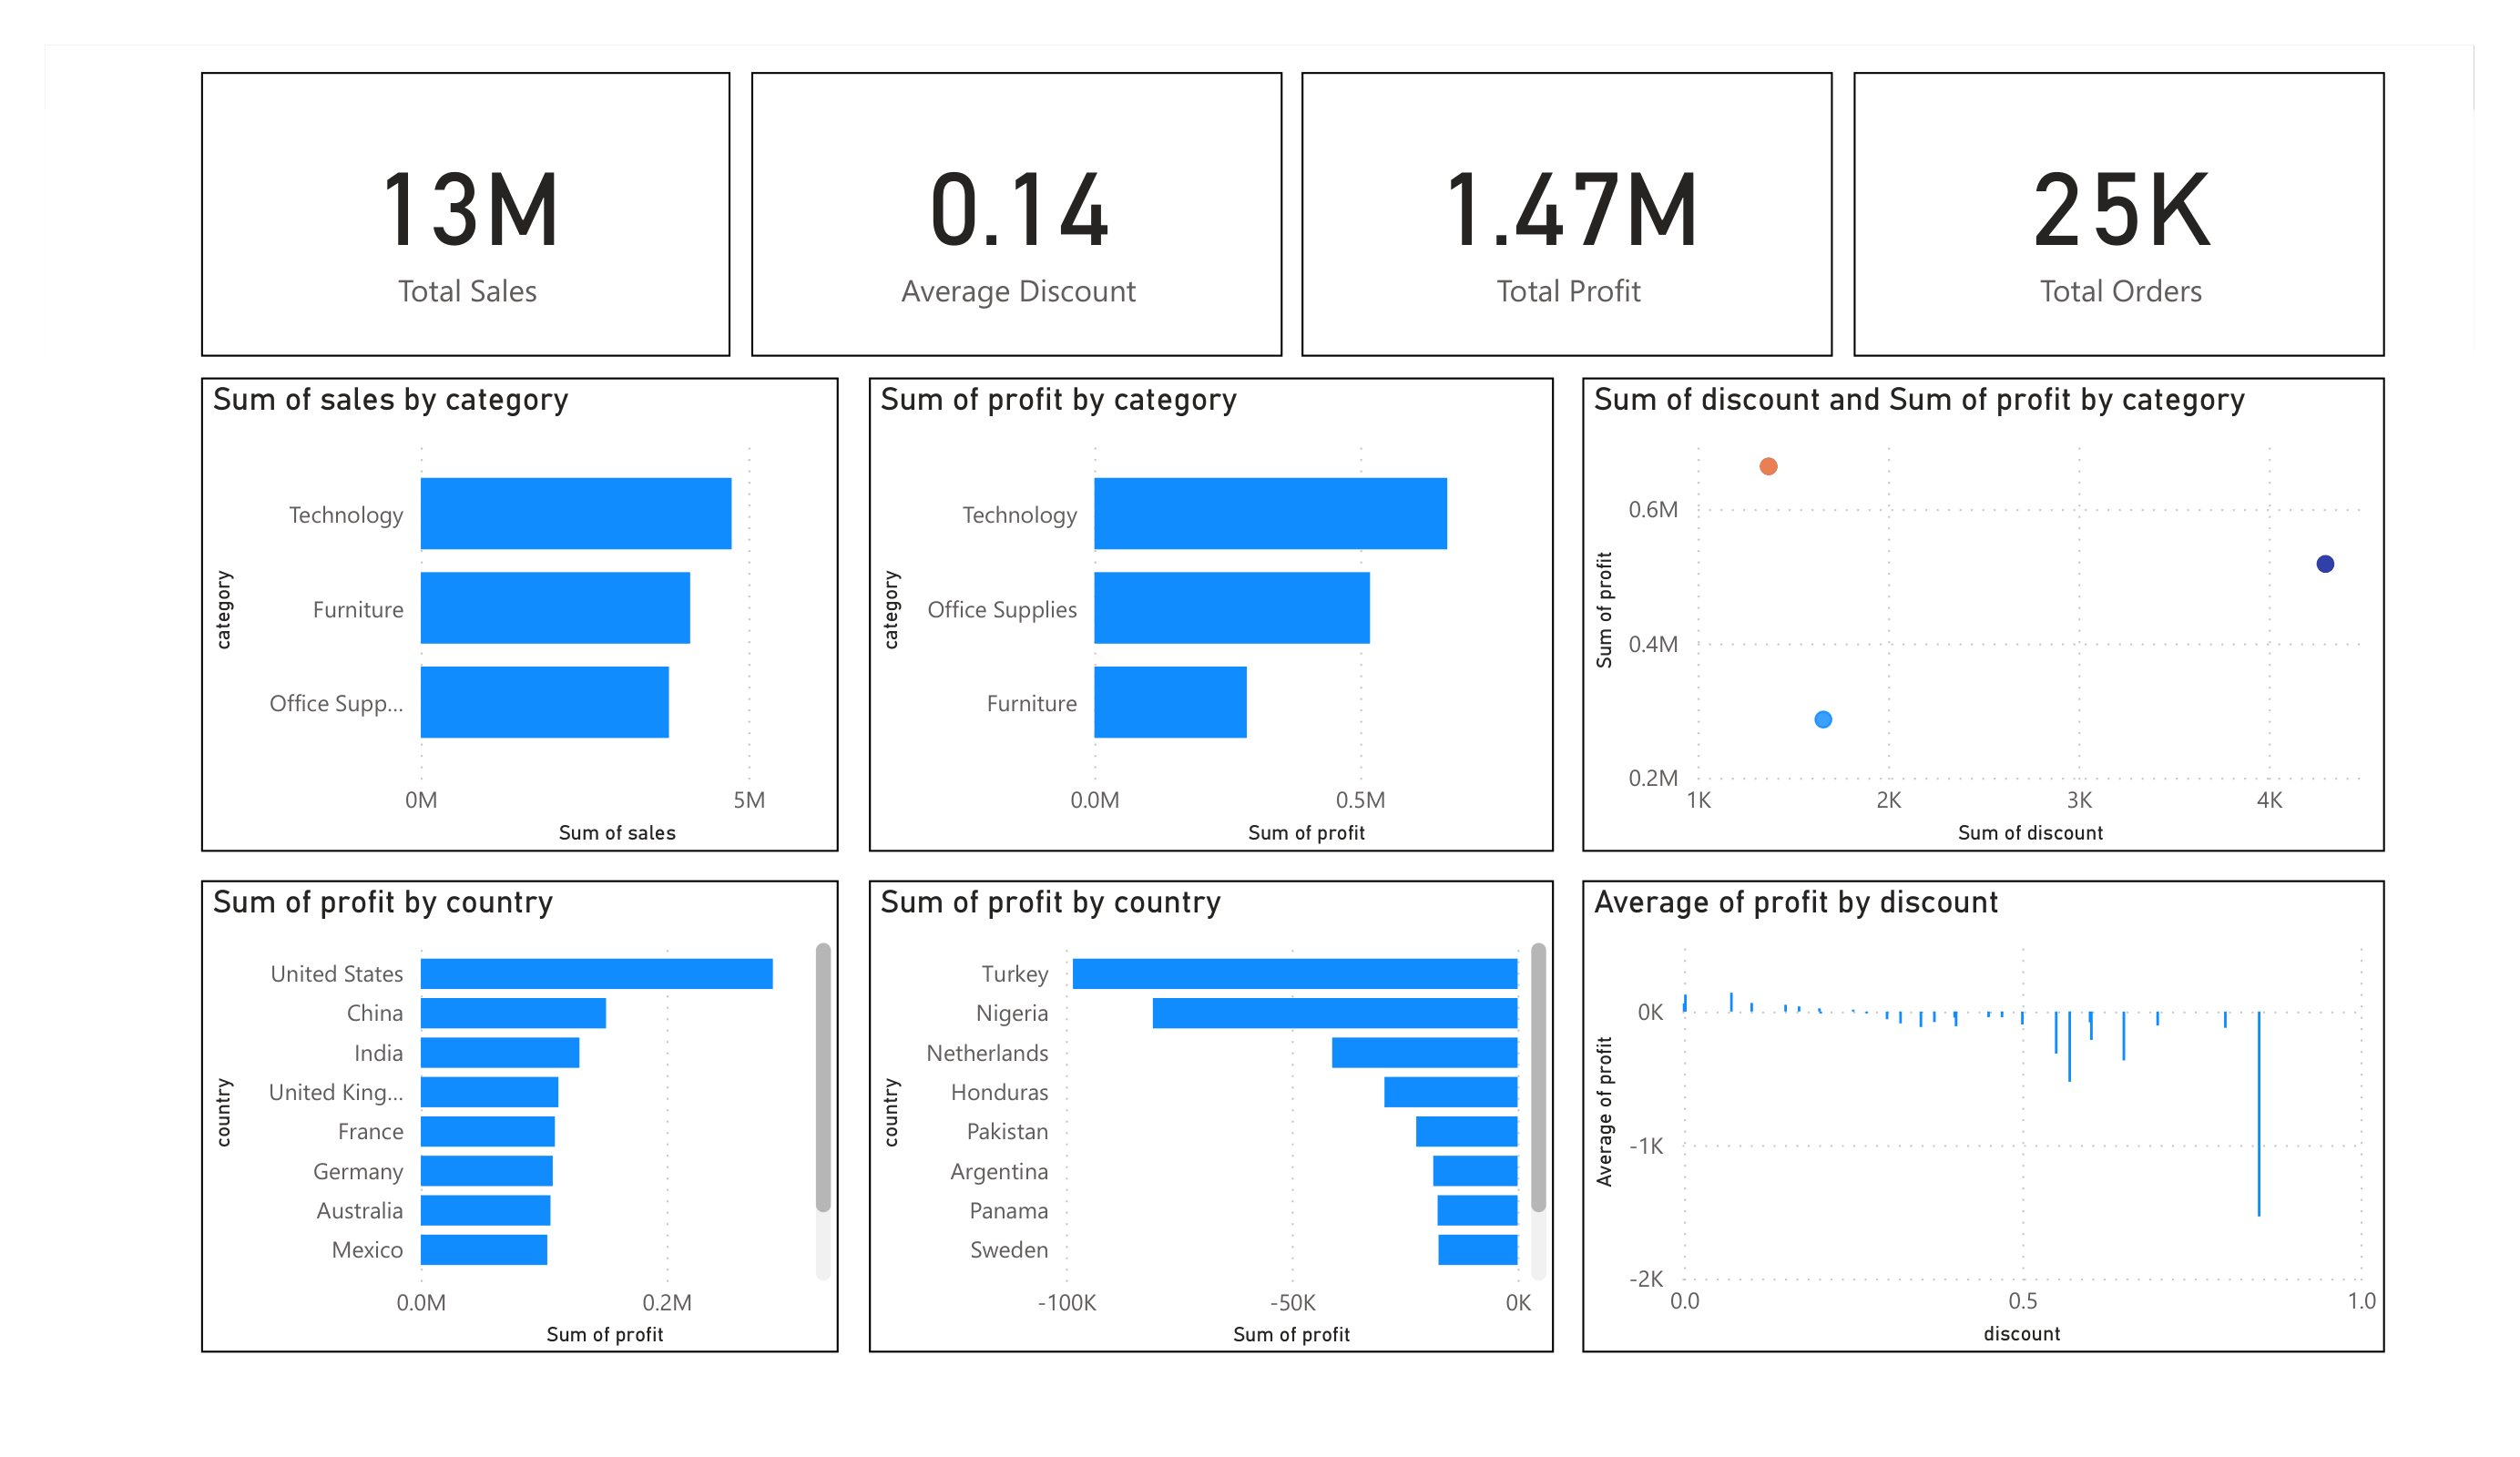

The page's visual inventory and layout, read from the dashboard file:
{"tool":"powerbi","page":{"name":"Page 1","canvas":[1280,720],"ordinal":0},"visuals":[{"type":"card","fields":{"Values":["clean_superstore.Total Sales"]},"box":[81.5,14.3,279.9,149.6],"z":0},{"type":"card","fields":{"Values":["clean_superstore.Total Profit"]},"box":[662,14.3,279.9,149.6],"z":1000},{"type":"card","fields":{"Values":["clean_superstore.Total Orders"]},"box":[952.9,14.3,279.9,149.6],"z":2000},{"type":"card","fields":{"Values":["clean_superstore.Average Discount"]},"box":[371.7,14.3,280,150],"z":3000},{"type":"clusteredBarChart","fields":{"Category":["clean_superstore.category"],"Y":["Sum(clean_superstore.sales)"]},"box":[81.5,174.8,336.2,249.7],"z":4000},{"type":"clusteredBarChart","fields":{"Category":["clean_superstore.category"],"Y":["Sum(clean_superstore.profit)"]},"box":[434.2,174.8,360.9,249.7],"z":5000},{"type":"barChart","fields":{"Category":["clean_superstore.country"],"Y":["Sum(clean_superstore.profit)"]},"box":[81.5,439.7,336.2,249.7],"z":6000},{"type":"barChart","fields":{"Category":["clean_superstore.country"],"Y":["Sum(clean_superstore.profit)"]},"box":[434.2,439.7,360.9,249.7],"z":7000},{"type":"scatterChart","fields":{"X":["Sum(clean_superstore.discount)"],"Y":["Sum(clean_superstore.profit)"],"Category":["clean_superstore.category"]},"box":[810.2,174.8,422.6,249.7],"z":8000},{"type":"clusteredColumnChart","fields":{"Category":["clean_superstore.discount"],"Y":["Avg(clean_superstore.profit)"]},"box":[810.2,439.7,422.6,249.7],"z":9000}]}

Visuals, with their boxes in screenshot pixels (x1, y1, x2, y2):
card - clean_superstore.Total Sales: [x1=205, y1=73, x2=729, y2=352]
card - clean_superstore.Total Profit: [x1=1292, y1=73, x2=1816, y2=352]
card - clean_superstore.Total Orders: [x1=1837, y1=73, x2=2362, y2=352]
card - clean_superstore.Average Discount: [x1=749, y1=73, x2=1273, y2=353]
clusteredBarChart - clean_superstore.category x Sum(clean_superstore.sales): [x1=205, y1=373, x2=835, y2=841]
clusteredBarChart - clean_superstore.category x Sum(clean_superstore.profit): [x1=865, y1=373, x2=1542, y2=841]
barChart - clean_superstore.country x Sum(clean_superstore.profit): [x1=205, y1=870, x2=835, y2=1337]
barChart - clean_superstore.country x Sum(clean_superstore.profit): [x1=865, y1=870, x2=1542, y2=1337]
scatterChart - Sum(clean_superstore.discount) x Sum(clean_superstore.profit): [x1=1570, y1=373, x2=2362, y2=841]
clusteredColumnChart - clean_superstore.discount x Avg(clean_superstore.profit): [x1=1570, y1=870, x2=2362, y2=1337]
